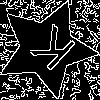K: (21, 23, 78, 80)
